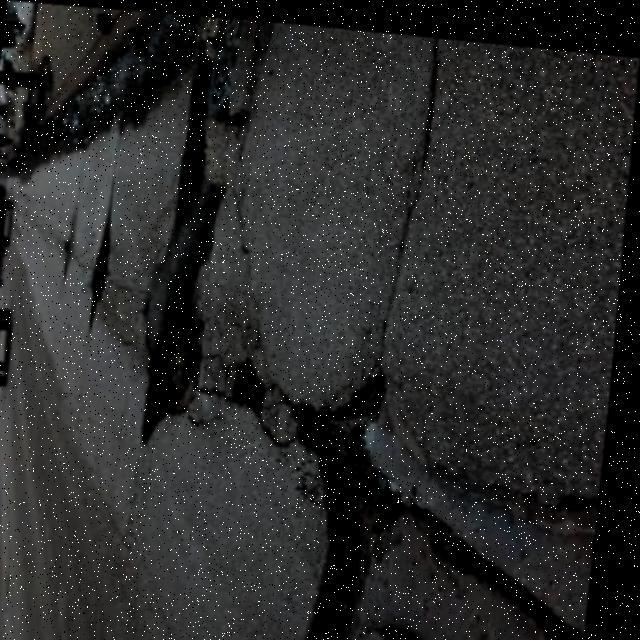pothole: (266, 357, 616, 640), (130, 56, 242, 446), (86, 197, 124, 333), (230, 351, 274, 416)
